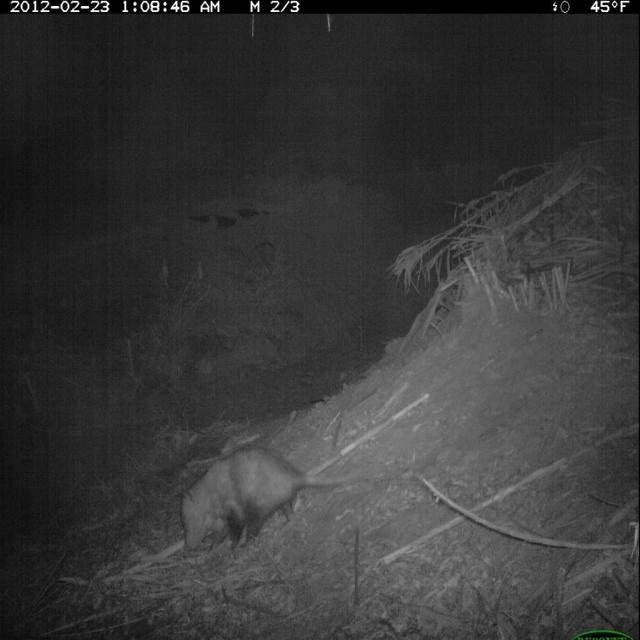opossum: (172, 442, 384, 564)
